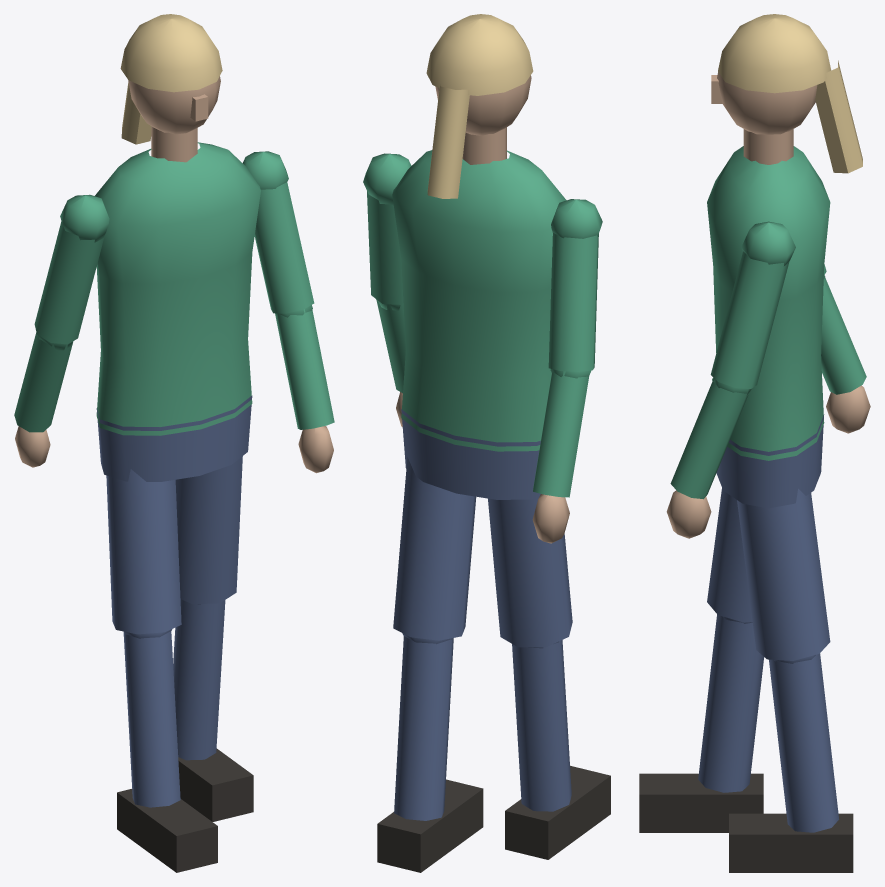
Rendered from person_d.glb.
3 renders of one model, left to right at view 1: azimuth 30°, elevation 25°; view 2: azimuth 150°, elevation 25°; view 3: azimuth 270°, elevation 25°, orthographic. The views are drawn at different scales.
Visible parts, largest first — view 1: person; view 2: person; view 3: person.
Boxes of the visible parts, bbox=[...] form: person: bbox=[14, 14, 334, 872]; person: bbox=[363, 14, 610, 872]; person: bbox=[639, 14, 870, 872].
Size of the model in its own units: 0.0293 by 0.0914 by 0.0233.
